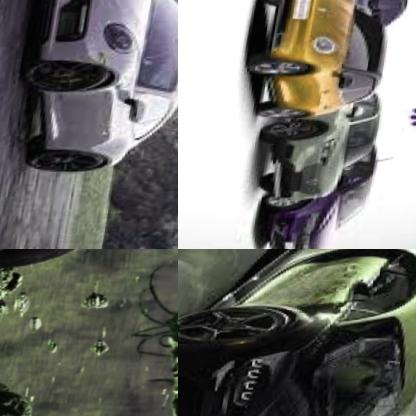bike: (0, 249, 178, 292)
car: (178, 249, 416, 416), (22, 0, 178, 182), (241, 0, 399, 122), (260, 111, 383, 206), (263, 193, 385, 249)
